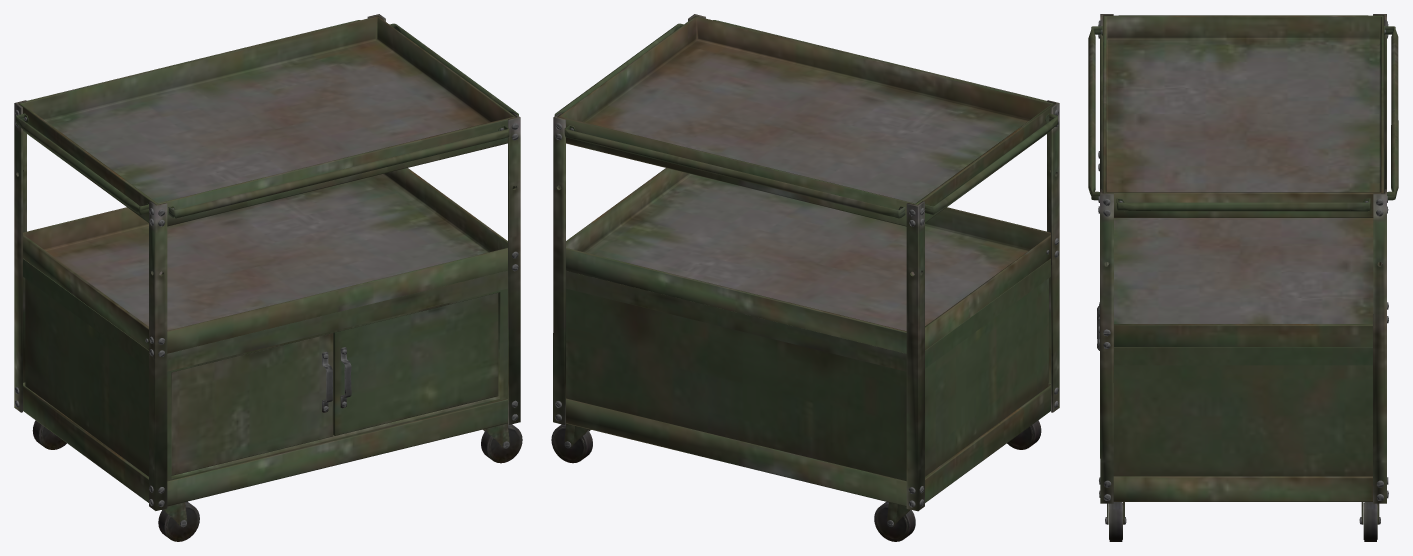
File: industrial_storage_cart.glb
3 views of the same model, side by side, from view 1: azimuth 30°, elevation 25°; view 2: azimuth 150°, elevation 25°; view 3: azimuth 270°, elevation 25° (orthographic).
Visible parts, largest first — view 1: industrial_storage_cart; view 2: industrial_storage_cart; view 3: industrial_storage_cart.
Boxes of the visible parts, x1,y1,x2,y2 form: industrial_storage_cart: (14, 14, 522, 541); industrial_storage_cart: (551, 14, 1059, 541); industrial_storage_cart: (1088, 14, 1398, 541).
Bounding box in the file's own units: 1.6 × 1.38 × 1.1.
Materials: 1 (1 with a texture image).
